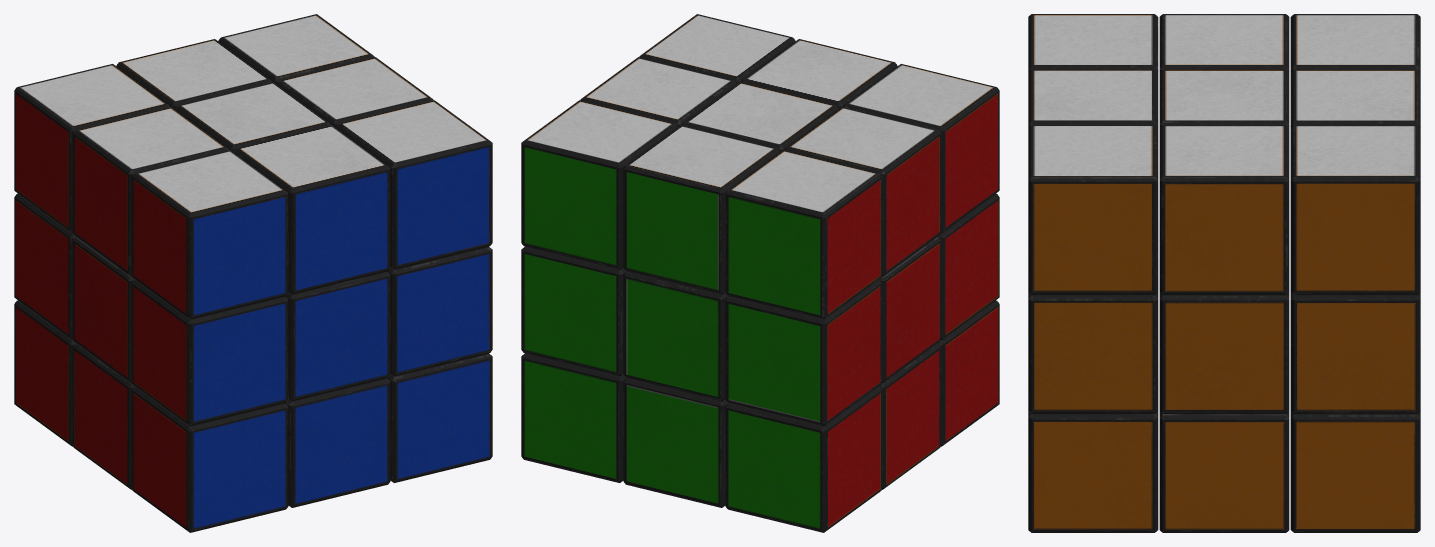
File: rubix_cube.glb
3 views of the same model, side by side, from view 1: azimuth 30°, elevation 25°; view 2: azimuth 150°, elevation 25°; view 3: azimuth 270°, elevation 25° (orthographic). The views are drawn at different scales.
Visible parts, largest first — view 1: Cube.052, Cube.043, Cube.034, Cube.050, Cube.051, Cube.049, Cube.046, Cube.041, Cube.033, Cube.042, Cube.032, Cube.031 (+7 smaller); view 2: Cube.046, Cube.037, Cube.028, Cube.044, Cube.045, Cube.049, Cube.052, Cube.035, Cube.027, Cube.036, Cube.013, Cube.031 (+7 smaller); view 3: Cube.045, Cube.051, Cube.048, Cube.027, Cube.033, Cube.036, Cube.042, Cube.030, Cube.039, Cube.047, Cube.044, Cube.046 (+3 smaller).
Part boxes in pixels (x1,y1,x2,y2): Cube.052: [132, 150, 288, 319]; Cube.043: [132, 280, 288, 426]; Cube.034: [132, 386, 288, 532]; Cube.050: [234, 125, 390, 294]; Cube.051: [336, 100, 492, 269]; Cube.049: [73, 107, 229, 276]; Cube.046: [14, 64, 170, 233]; Cube.041: [285, 271, 390, 401]; Cube.033: [387, 353, 492, 482]; Cube.042: [387, 246, 492, 376]; Cube.032: [285, 378, 390, 507]; Cube.031: [73, 343, 135, 489]; Cube.046: [725, 150, 881, 319]; Cube.037: [725, 280, 881, 426]; Cube.028: [725, 386, 881, 532]; Cube.044: [623, 125, 779, 294]; Cube.045: [521, 100, 677, 269]; Cube.049: [784, 107, 940, 276]; Cube.052: [843, 64, 999, 233]; Cube.035: [623, 271, 728, 401]; Cube.027: [521, 353, 626, 482]; Cube.036: [521, 246, 626, 376]; Cube.013: [623, 378, 728, 507]; Cube.031: [878, 343, 940, 489]; Cube.045: [1290, 125, 1420, 294]; Cube.051: [1028, 125, 1158, 294]; Cube.048: [1159, 125, 1289, 294]; Cube.027: [1290, 411, 1420, 532]; Cube.033: [1028, 411, 1158, 532]; Cube.036: [1290, 292, 1420, 413]; Cube.042: [1028, 292, 1158, 413]; Cube.030: [1159, 411, 1289, 532]; Cube.039: [1159, 292, 1289, 413]; Cube.047: [1159, 69, 1289, 127]; Cube.044: [1290, 69, 1420, 127]; Cube.046: [1290, 14, 1420, 71].
Size of the model in its own units: 3.59 by 3.59 by 3.59.
Materials: 1 (1 with a texture image).
